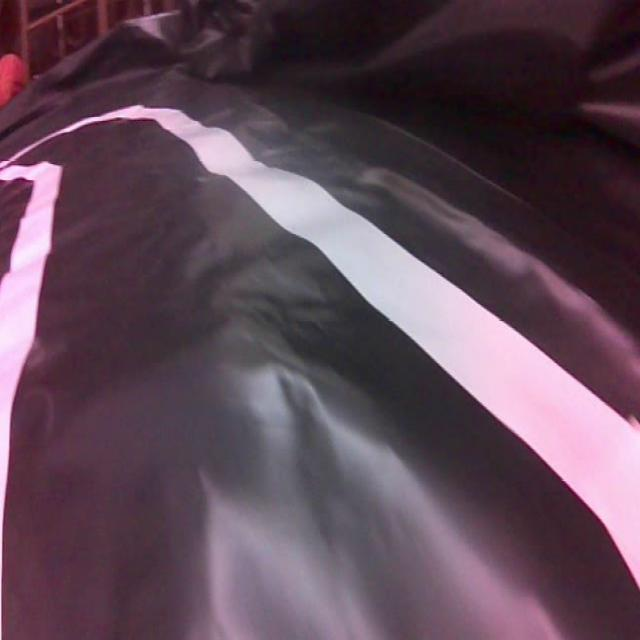LineaCarril: (16, 105, 640, 587), (0, 162, 62, 615)
